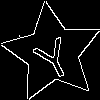Y: (27, 28, 77, 83)
